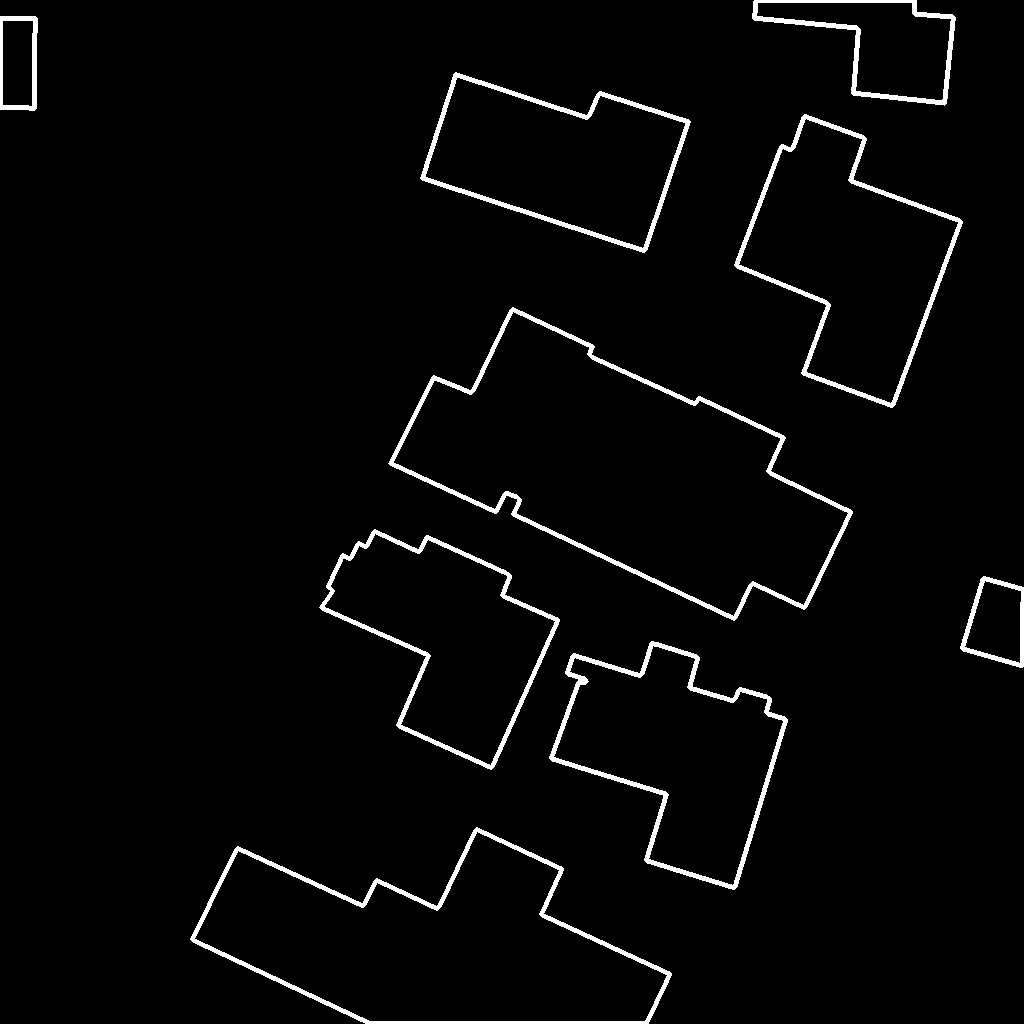building: (390, 309, 852, 620), (192, 829, 671, 1024), (736, 116, 962, 407), (551, 643, 787, 889), (321, 531, 559, 769), (422, 74, 690, 252), (754, 0, 955, 104), (962, 578, 1024, 667), (0, 18, 36, 109)
